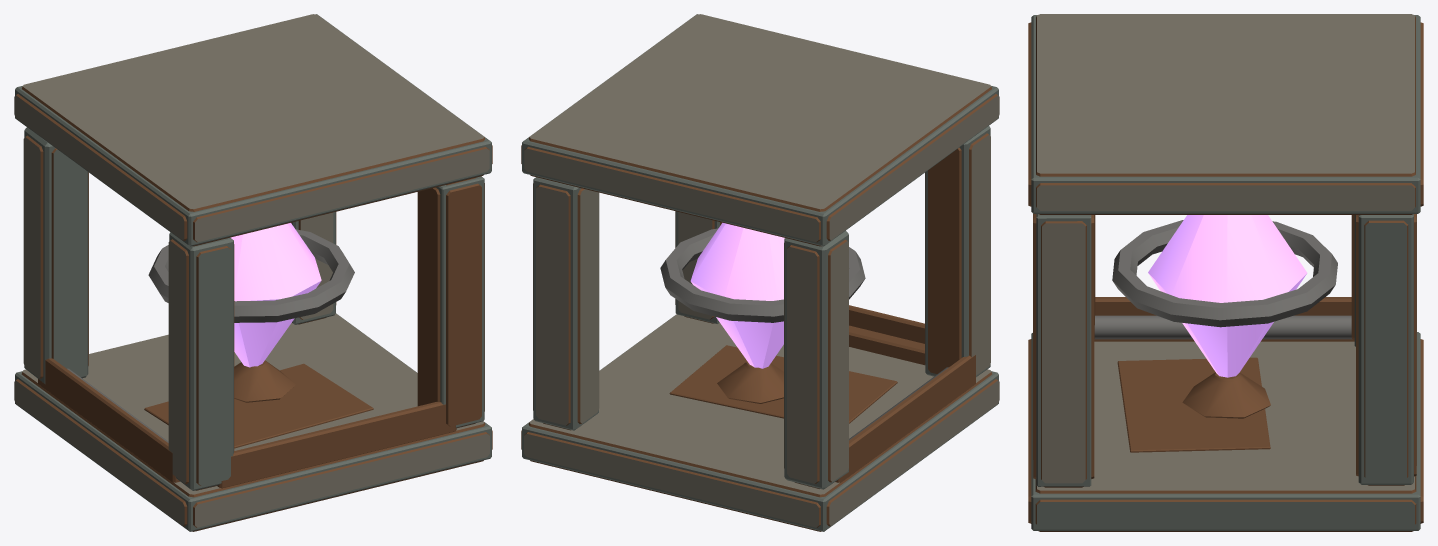
Rendered from R4X_CoreBooster.fbx.
3 renders of one model, left to right at view 1: azimuth 30°, elevation 25°; view 2: azimuth 150°, elevation 25°; view 3: azimuth 270°, elevation 25°, orthographic. The views are drawn at different scales.
Parts seen in each view (by area): view 1: R4X_CoreBooster_Body; view 2: R4X_CoreBooster_Body; view 3: R4X_CoreBooster_Body.
Boxes of the visible parts, x1,y1,x2,y2 form: R4X_CoreBooster_Body: (14,14,492,531); R4X_CoreBooster_Body: (521,14,999,531); R4X_CoreBooster_Body: (1028,14,1423,531).
Size of the model in its own units: 0.52 by 0.52 by 0.52.
